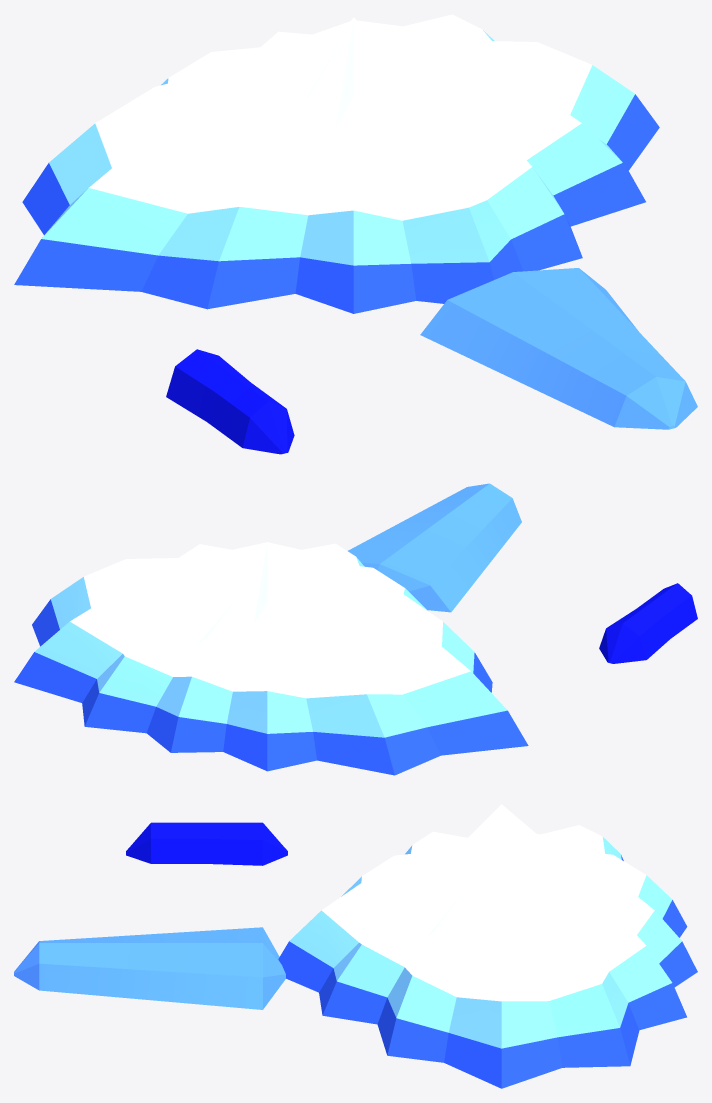
File: shot_ice_138.glb
3 renders of one model, top to bottom at view 1: azimuth 30°, elevation 25°; view 2: azimuth 150°, elevation 25°; view 3: azimuth 270°, elevation 25°, orthographic. The views are drawn at different scales.
Visible parts, largest first — view 1: shot_ice_138_cap, shot_ice_138_trail; view 2: shot_ice_138_cap, shot_ice_138_trail; view 3: shot_ice_138_cap, shot_ice_138_trail.
Part boxes in pixels (x1=…): shot_ice_138_cap: x1=14, y1=14, x2=659, y2=313; shot_ice_138_trail: x1=166, y1=268, x2=697, y2=454; shot_ice_138_cap: x1=14, y1=542, x2=528, y2=775; shot_ice_138_trail: x1=348, y1=483, x2=697, y2=663; shot_ice_138_cap: x1=278, y1=804, x2=697, y2=1088; shot_ice_138_trail: x1=14, y1=822, x2=287, y2=1009.
Bounding box in the file's own units: 10.43 × 2.81 × 12.23.
